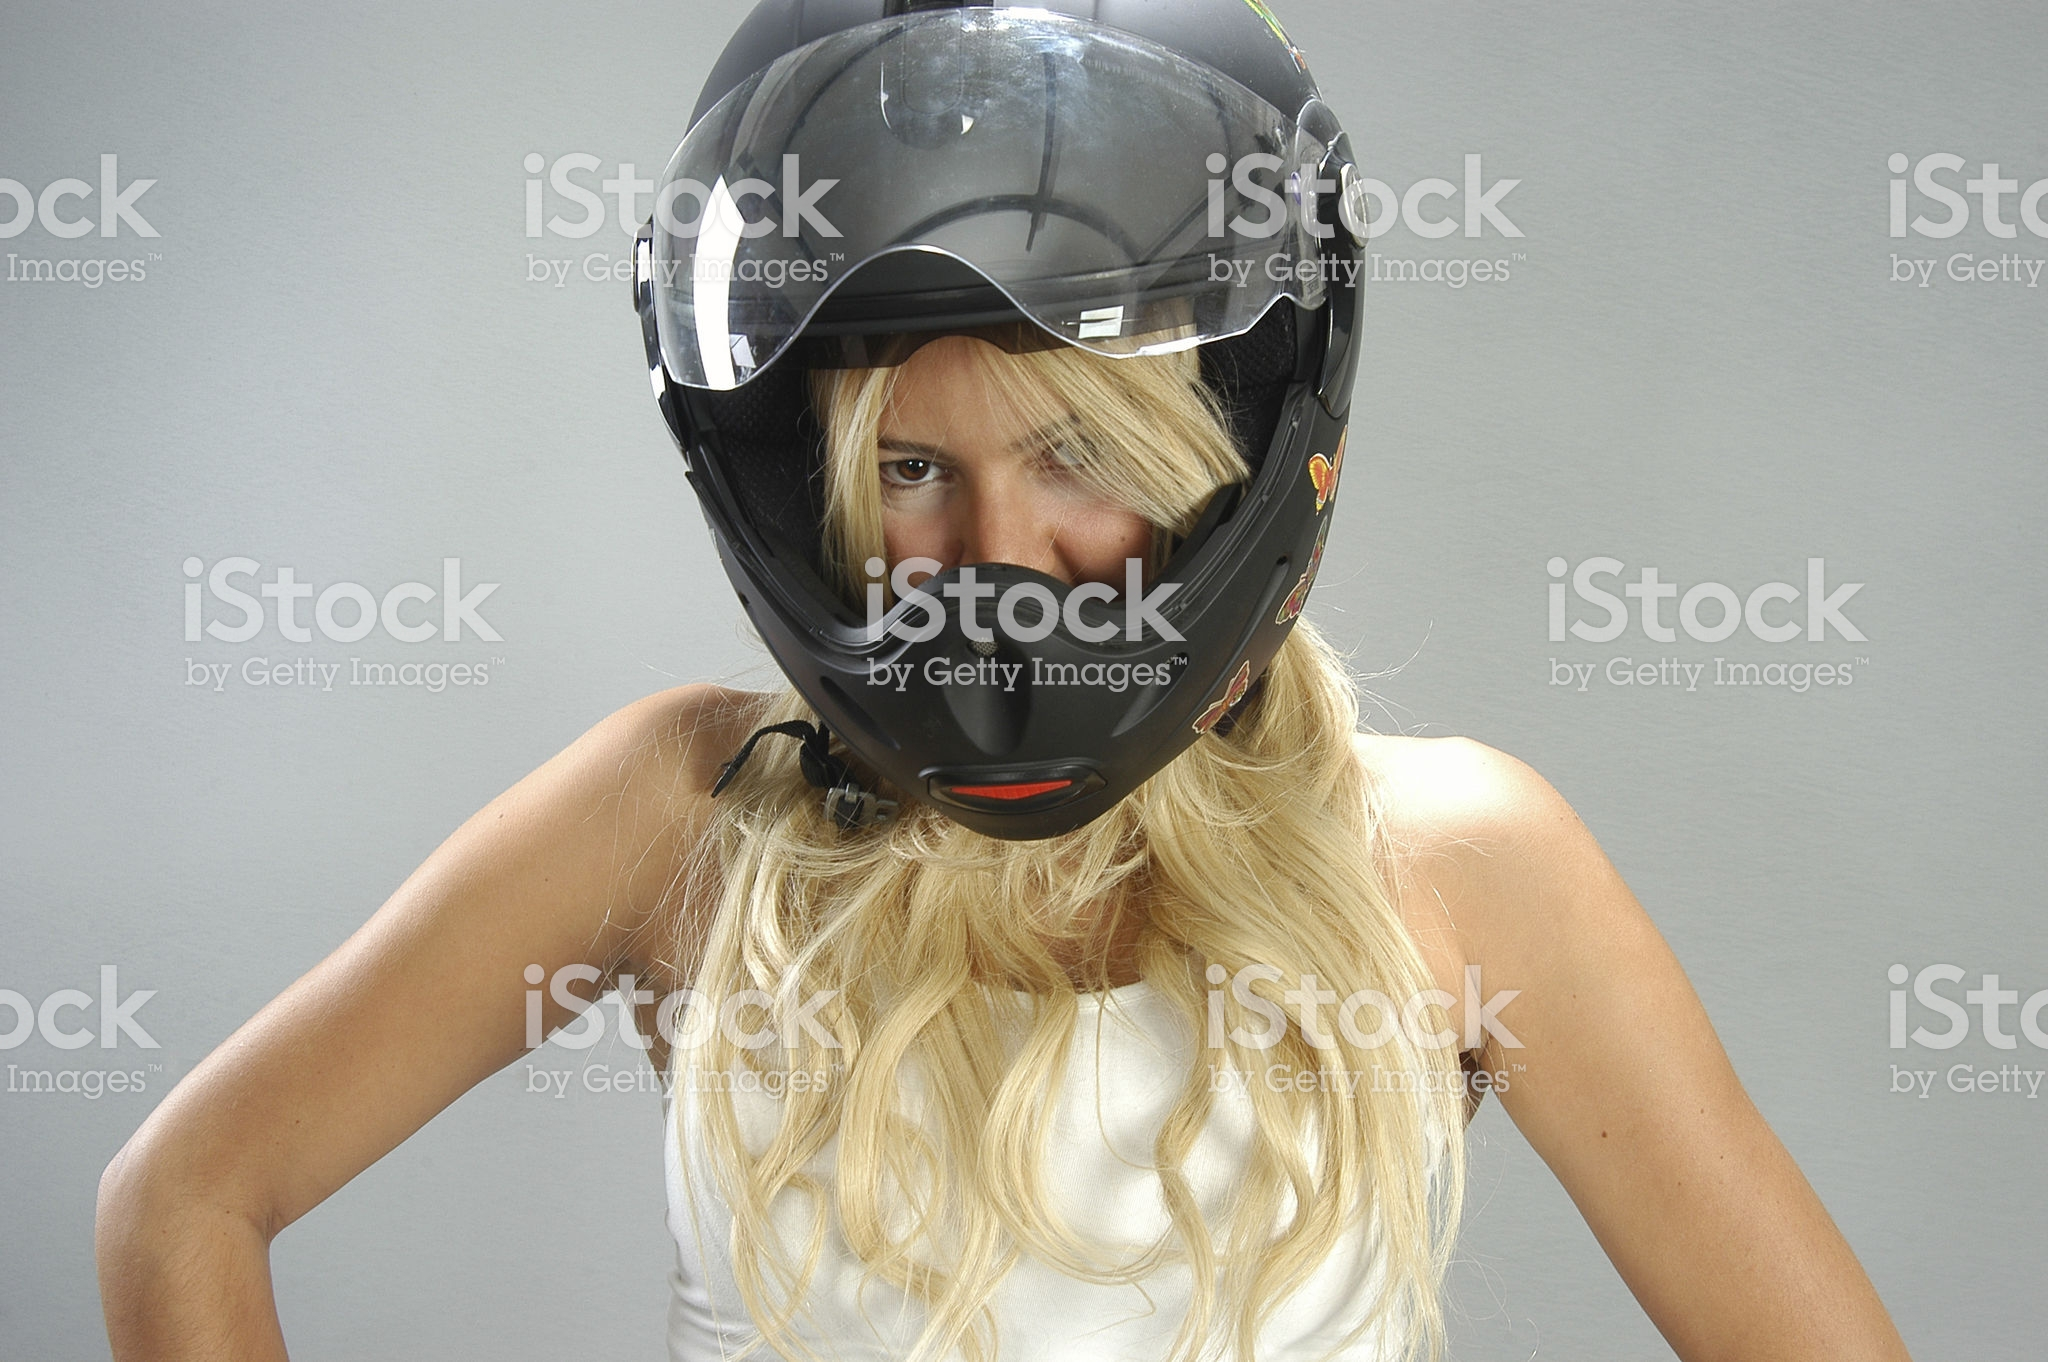helmet: (627, 44, 1375, 778)
